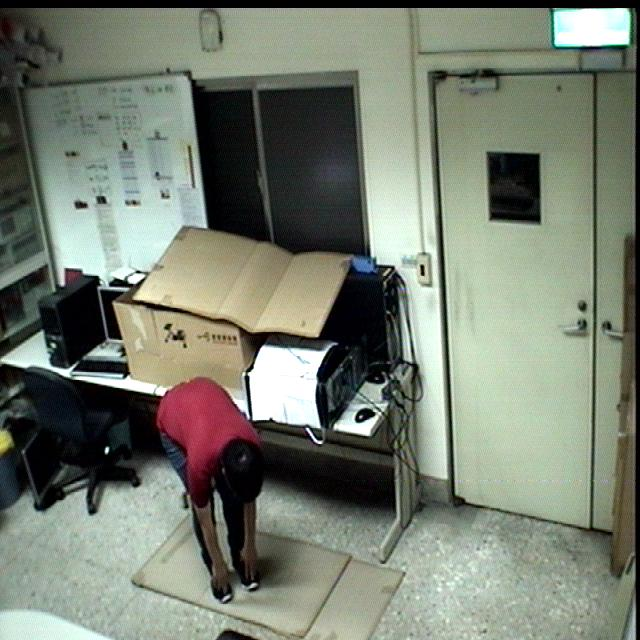bend: (154, 374, 268, 605)
